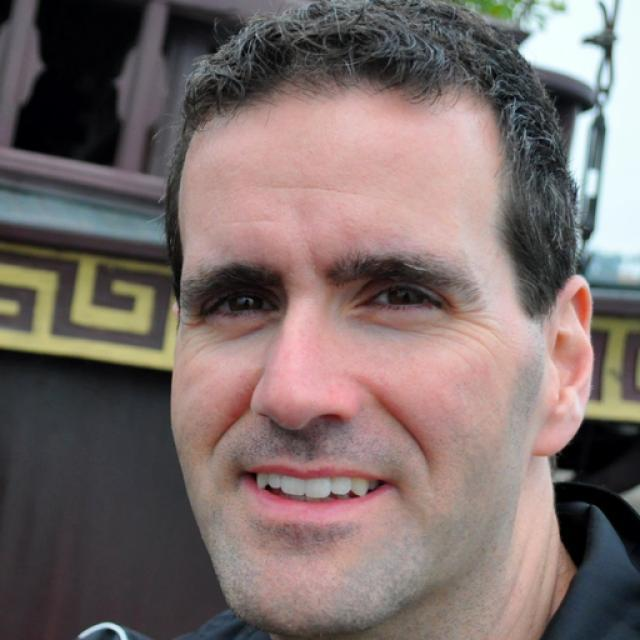disgust: (170, 73, 544, 626)
